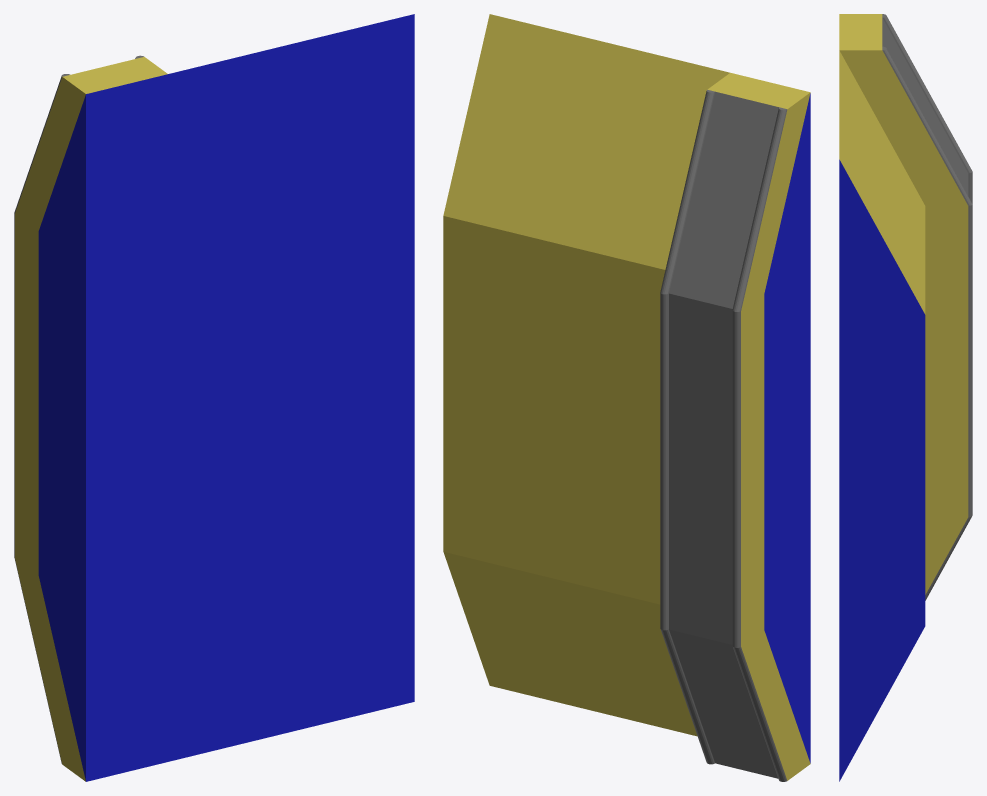
Rendered from Box W Box-Rail Side.fbx.
3 renders of one model, left to right at view 1: azimuth 30°, elevation 25°; view 2: azimuth 150°, elevation 25°; view 3: azimuth 270°, elevation 25°, orthographic. The views are drawn at different scales.
Visible parts, largest first — view 1: Box W Box-Rail Side; view 2: Box W Box-Rail Side; view 3: Box W Box-Rail Side.
Boxes of the visible parts, <box> form: Box W Box-Rail Side: <box>14,14,414,781</box>; Box W Box-Rail Side: <box>443,14,810,781</box>; Box W Box-Rail Side: <box>839,14,972,781</box>.
Bounding box in the file's own units: 800 × 1600 × 310.
